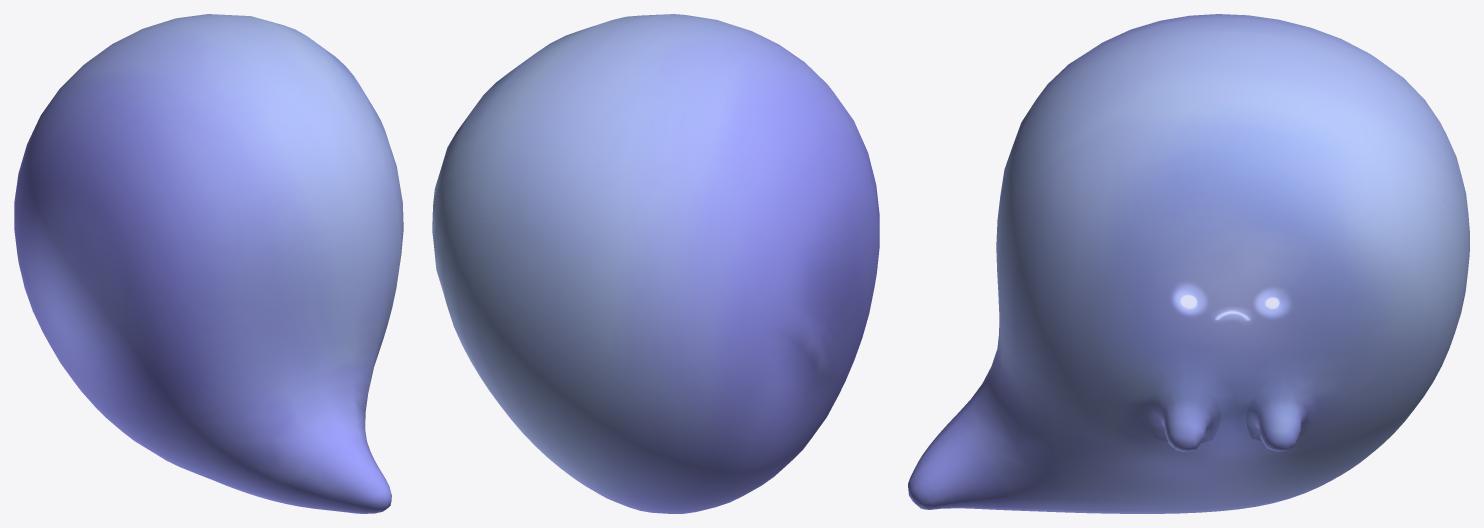
The model's file is ghostu.glb.
3 views of the same model, side by side, from view 1: azimuth 30°, elevation 25°; view 2: azimuth 150°, elevation 25°; view 3: azimuth 270°, elevation 25° (orthographic). The views are drawn at different scales.
Visible parts, largest first — view 1: Object_2; view 2: Object_2; view 3: Object_2.
Part boxes in pixels (box(x1,y1,x2,y2)): Object_2: box(14, 14, 403, 513); Object_2: box(432, 14, 879, 513); Object_2: box(908, 14, 1469, 513).
Bounding box in the file's own units: 1.62 × 2.02 × 2.15.
2 materials, 2 textured.
